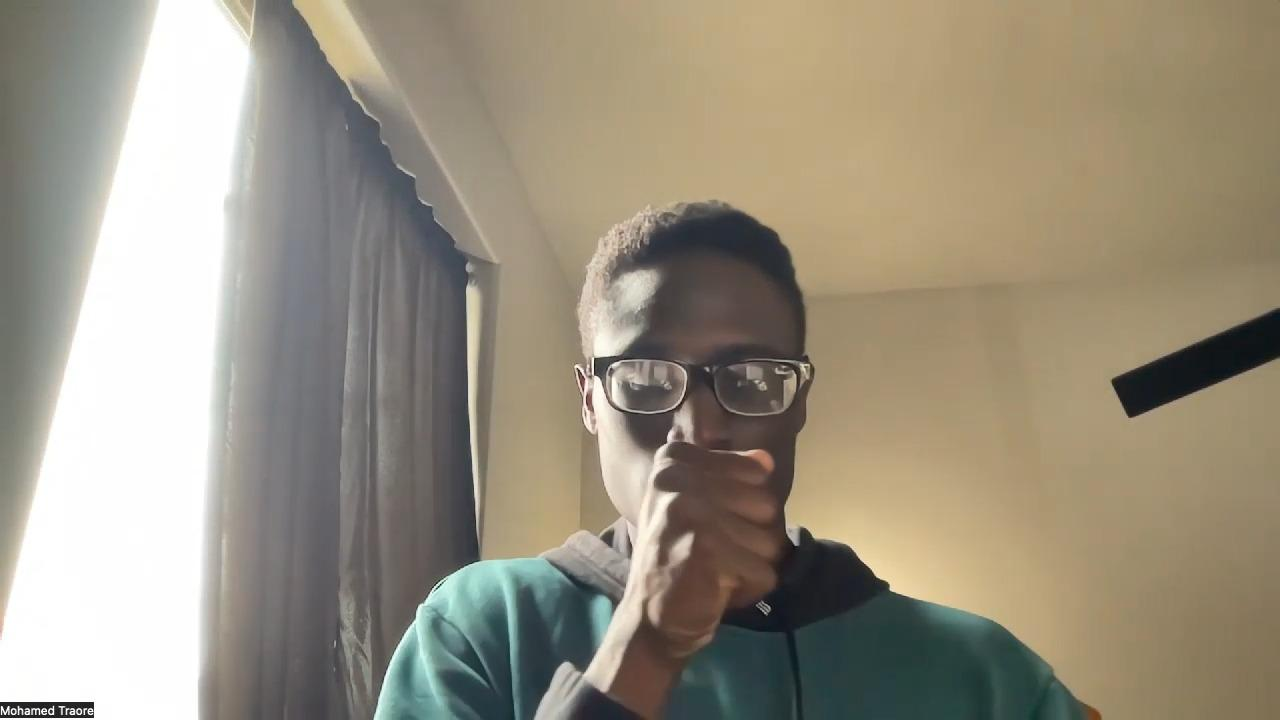Rock: (622, 439, 780, 664)
